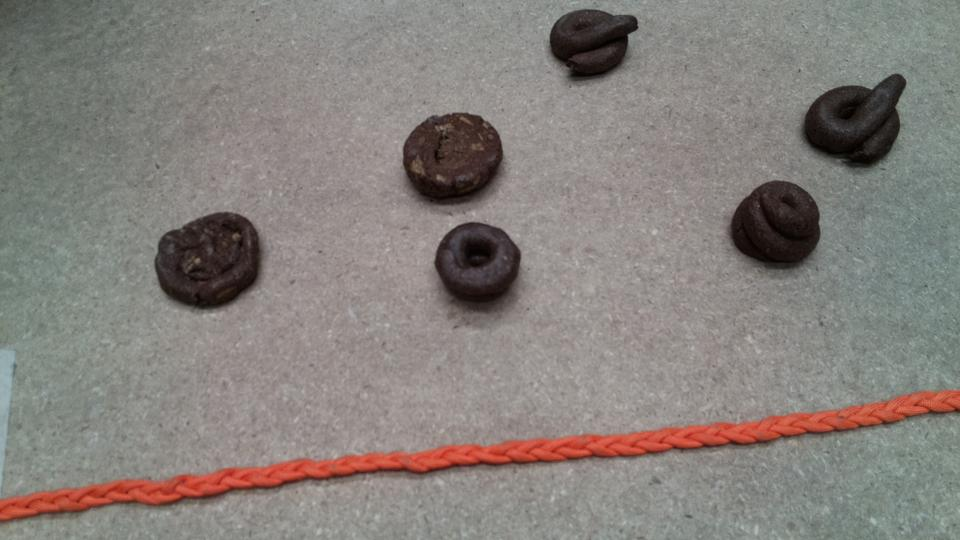poop: (149, 209, 274, 308), (800, 72, 920, 169), (401, 111, 516, 206), (416, 216, 533, 309), (725, 178, 832, 277), (547, 6, 644, 82)
rope: (585, 410, 851, 469), (378, 437, 642, 483), (8, 472, 224, 522), (195, 455, 445, 494), (825, 381, 960, 435)
